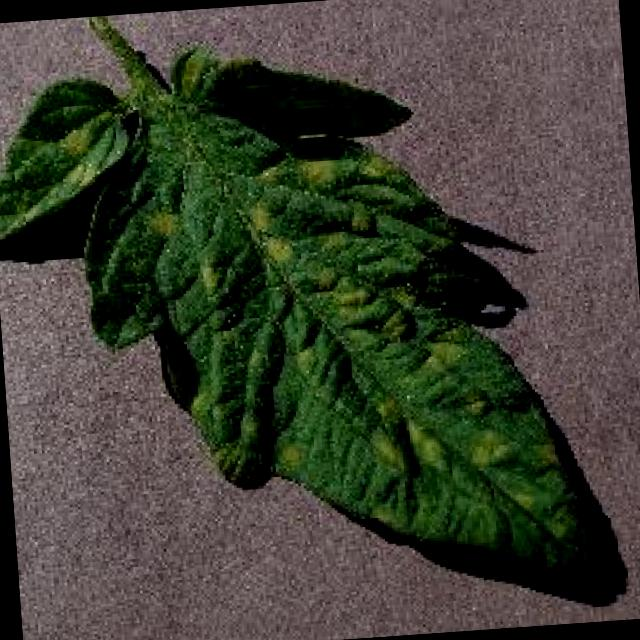leaf mold: (0, 14, 606, 571)
